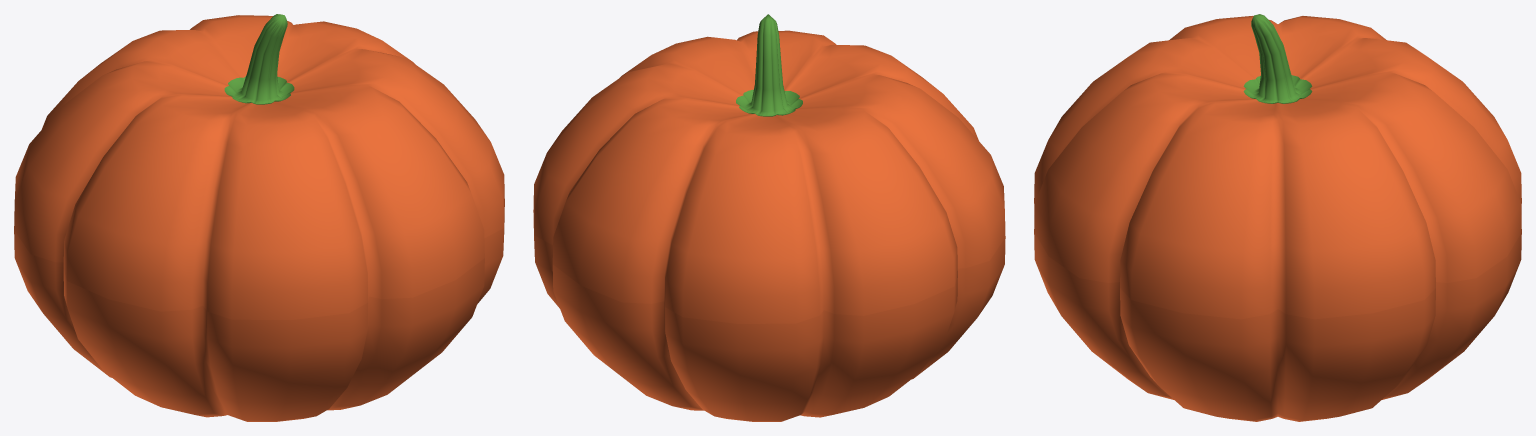
File: тыква разрез горизонт .fbx
The picture shows the model from 3 angles, left to right: view 1: azimuth 30°, elevation 25°; view 2: azimuth 150°, elevation 25°; view 3: azimuth 270°, elevation 25°; orthographic projection. The views are drawn at different scales.
Visible parts, largest first — view 1: t2, t; view 2: t2, t; view 3: t2, t.
Part boxes in pixels (x1=…): t2: x1=14, y1=14, x2=504, y2=319; t: x1=14, y1=205, x2=504, y2=421; t2: x1=533, y1=14, x2=1005, y2=323; t: x1=533, y1=212, x2=1005, y2=421; t2: x1=1034, y1=14, x2=1521, y2=319; t: x1=1034, y1=201, x2=1521, y2=421.
Bounding box in the file's own units: 261 × 215 × 261.
